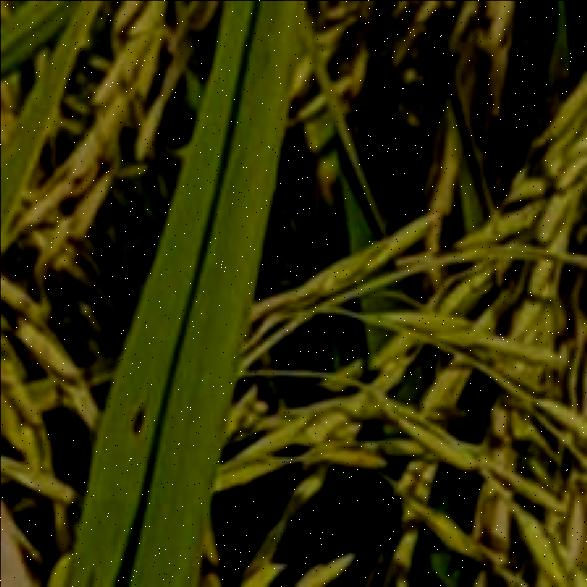Brown_Spot: (118, 394, 152, 438)
